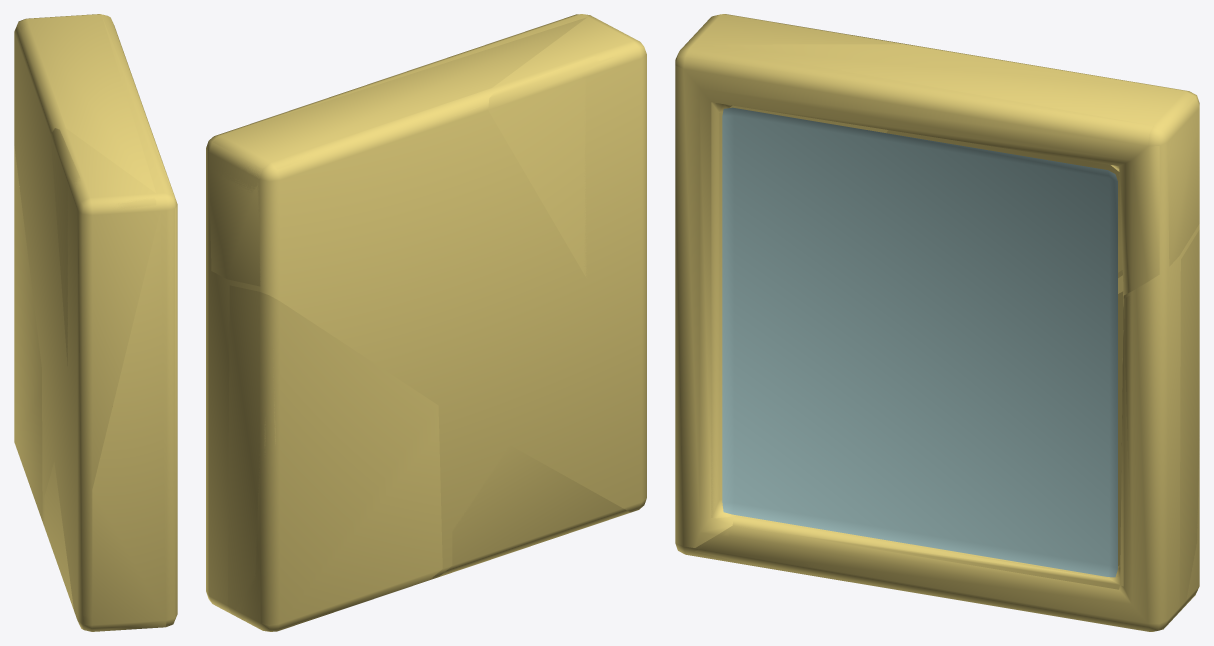
Rendered from Picture_frame.005.fbx.
3 views of the same model, side by side, from view 1: azimuth 30°, elevation 25°; view 2: azimuth 150°, elevation 25°; view 3: azimuth 270°, elevation 25° (orthographic). The views are drawn at different scales.
Visible parts, largest first — view 1: Picture_frame.005, Picture_frame.005_cell, Picture_frame.005_cell.004, Picture_frame.005_cell.002, Picture_frame.005_cell.001; view 2: Picture_frame.005, Picture_frame.005_cell.004, Picture_frame.005_cell, Picture_frame.005_cell.002, Picture_frame.005_cell.001; view 3: Picture.005, Picture_frame.005_cell, Picture_frame.005, Picture_frame.005_cell.001, Picture_frame.005_cell.004.
Boxes of the visible parts, left/top/right/bottom form: Picture_frame.005: left=14, top=14, right=177, bottom=631; Picture_frame.005_cell: left=18, top=14, right=177, bottom=631; Picture_frame.005_cell.004: left=14, top=146, right=42, bottom=521; Picture_frame.005_cell.002: left=50, top=128, right=156, bottom=365; Picture_frame.005_cell.001: left=44, top=462, right=73, bottom=609; Picture_frame.005: left=206, top=14, right=646, bottom=631; Picture_frame.005_cell.004: left=227, top=285, right=442, bottom=631; Picture_frame.005_cell: left=209, top=17, right=587, bottom=286; Picture_frame.005_cell.002: left=488, top=18, right=615, bottom=277; Picture_frame.005_cell.001: left=439, top=445, right=630, bottom=576; Picture.005: left=722, top=107, right=1117, bottom=577; Picture_frame.005_cell: left=675, top=44, right=1199, bottom=547; Picture_frame.005: left=675, top=14, right=1199, bottom=631; Picture_frame.005_cell.001: left=695, top=295, right=1130, bottom=618; Picture_frame.005_cell.004: left=1118, top=230, right=1199, bottom=615.
Bounding box in the file's own units: 13.76 × 26.24 × 24.65.
